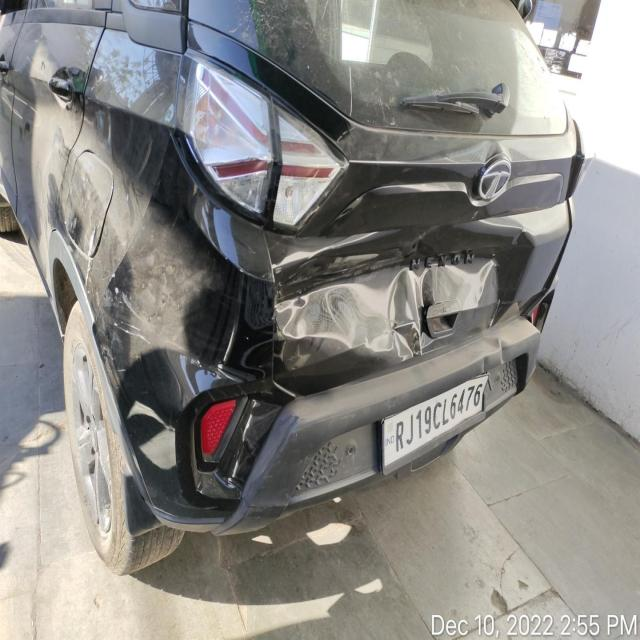damage: (271, 223, 535, 398), (478, 338, 508, 376)
